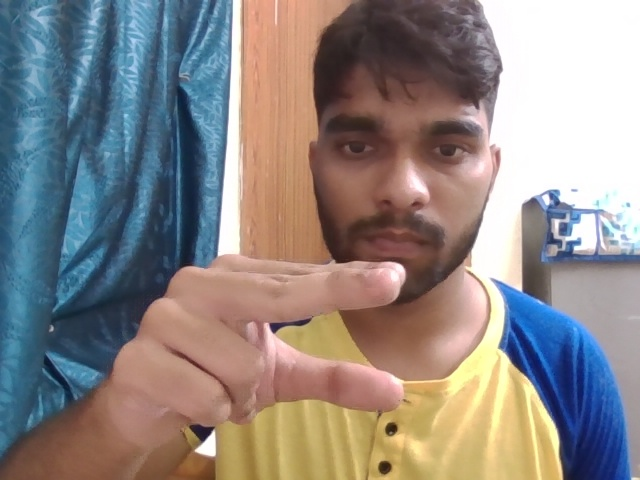No: (99, 228, 438, 458)
